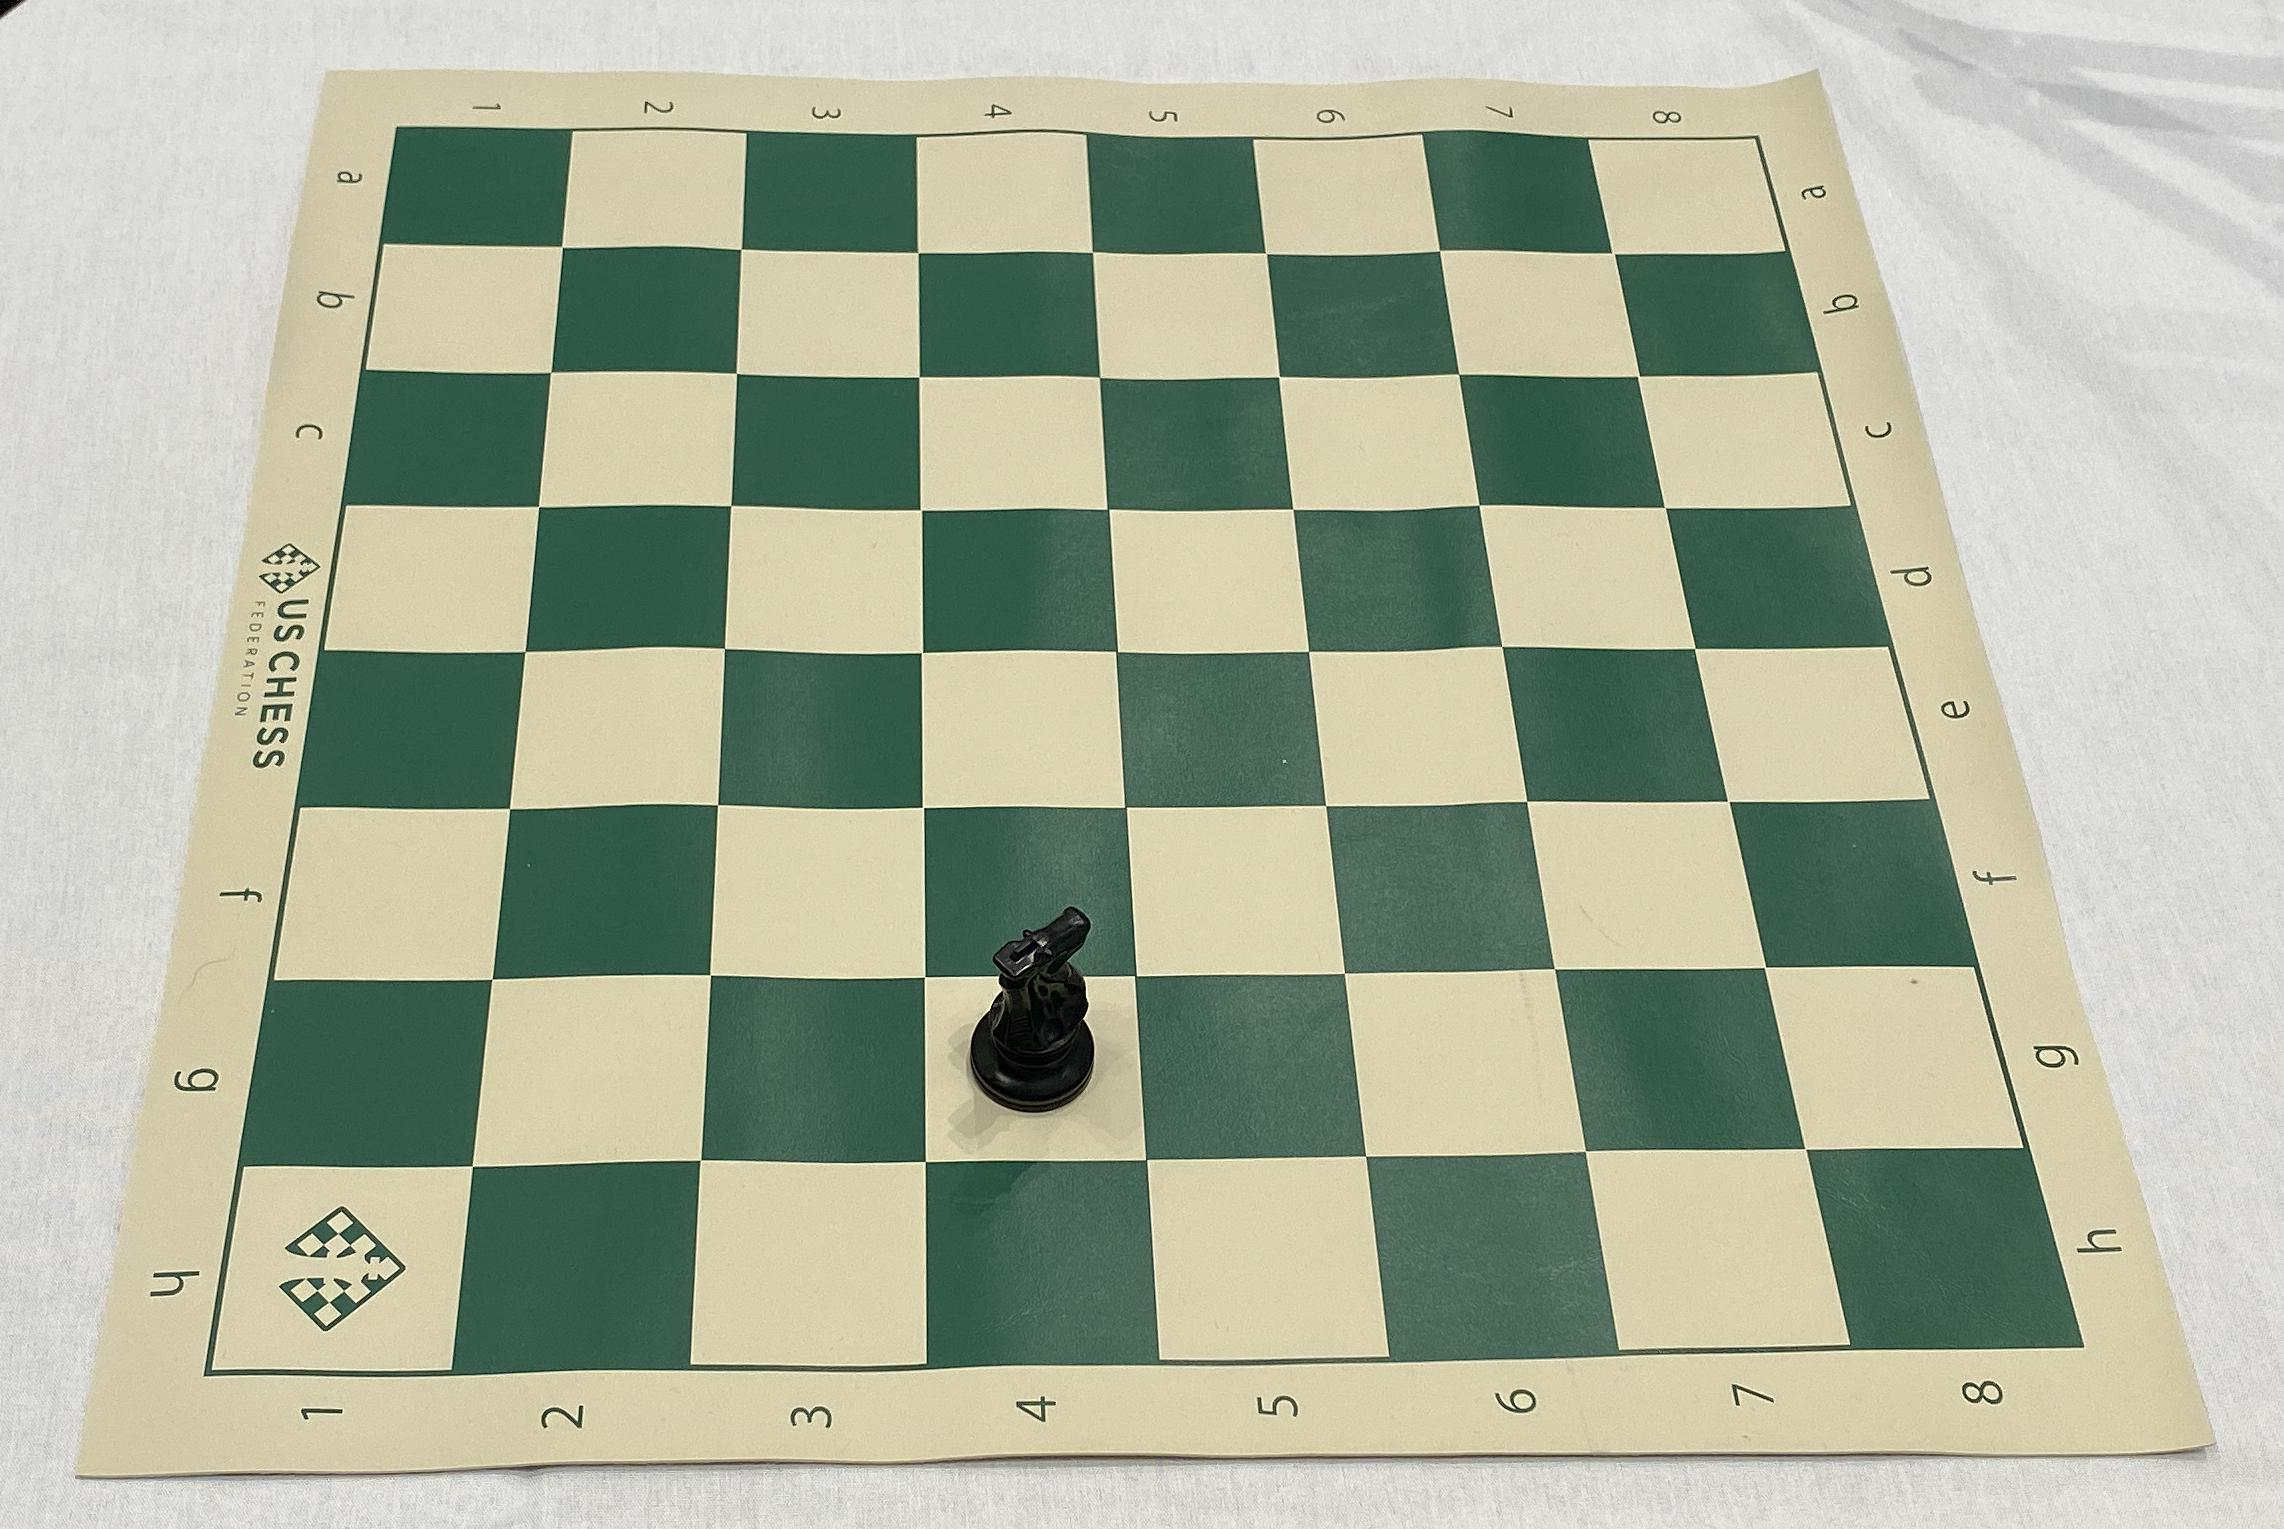black-knight: (965, 908, 1099, 1114)
